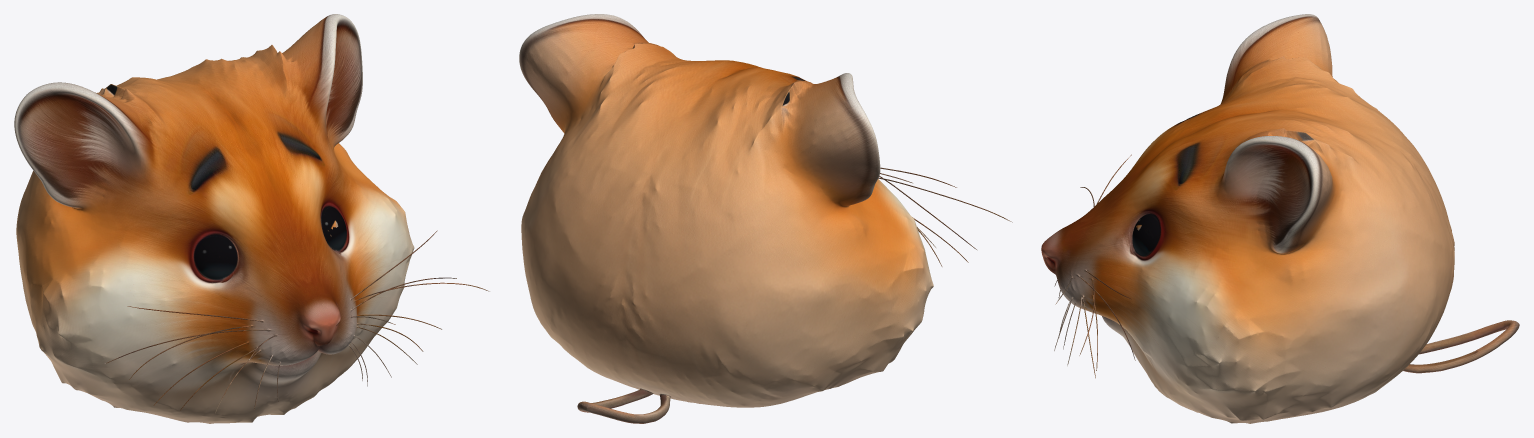
The picture shows the model from 3 angles, left to right: view 1: azimuth 30°, elevation 25°; view 2: azimuth 150°, elevation 25°; view 3: azimuth 270°, elevation 25°; orthographic projection. The views are drawn at different scales.
Parts seen in each view (by area): view 1: mesh_node; view 2: mesh_node; view 3: mesh_node.
Part boxes in pixels (box(x1,y1,x2,y2)): mesh_node: box(14, 14, 489, 423); mesh_node: box(519, 14, 1012, 423); mesh_node: box(1041, 14, 1519, 423).
Bounding box in the file's own units: 1.58 × 1.4 × 1.9.
1 material, 1 textured.
